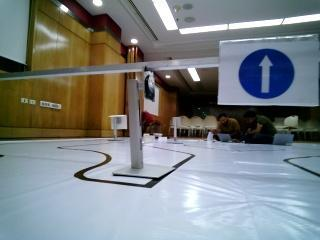straight: (218, 41, 320, 107)
